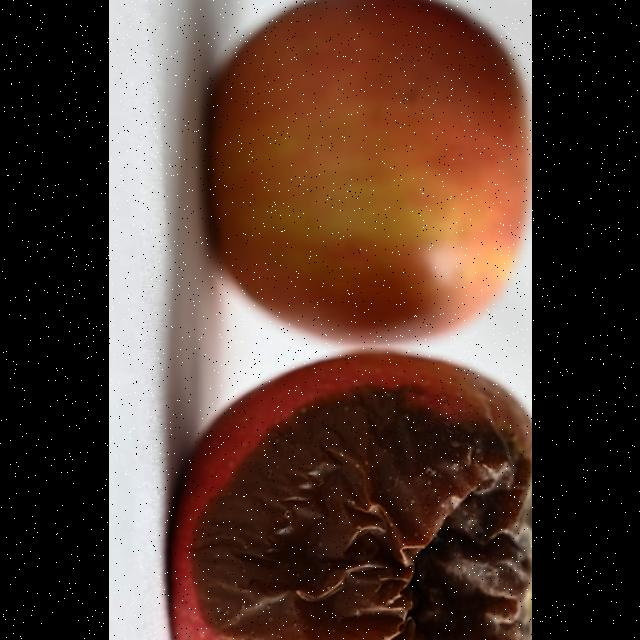Apel Segar: (192, 0, 532, 358)
Apel Tidak Segar: (158, 364, 532, 640)
